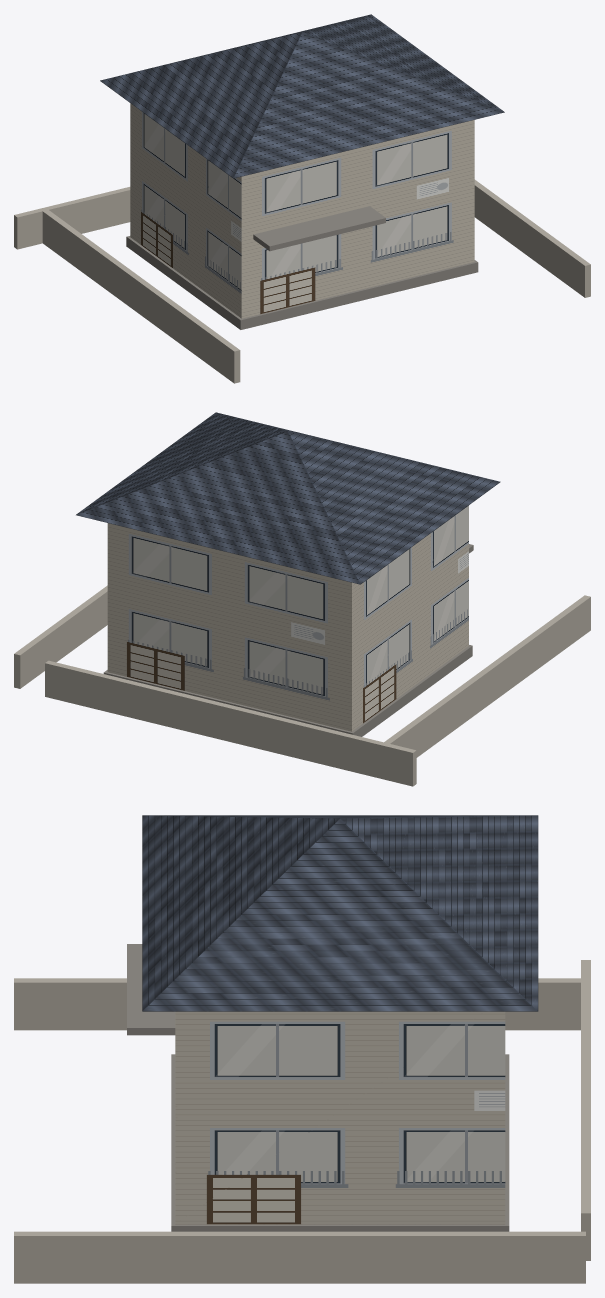
Rendered from house_e.glb.
The picture shows the model from 3 angles, top to bottom: view 1: azimuth 30°, elevation 25°; view 2: azimuth 150°, elevation 25°; view 3: azimuth 270°, elevation 25°; orthographic projection. The views are drawn at different scales.
Parts seen in each view (by area): view 1: jhouse; view 2: jhouse; view 3: jhouse.
Boxes of the visible parts, bbox=[...] form: jhouse: bbox=[14, 14, 590, 383]; jhouse: bbox=[14, 412, 590, 786]; jhouse: bbox=[14, 815, 590, 1283].
Bounding box in the file's own units: 16.2 × 9.2 × 14.31.
Materials: 4 (2 with a texture image).
